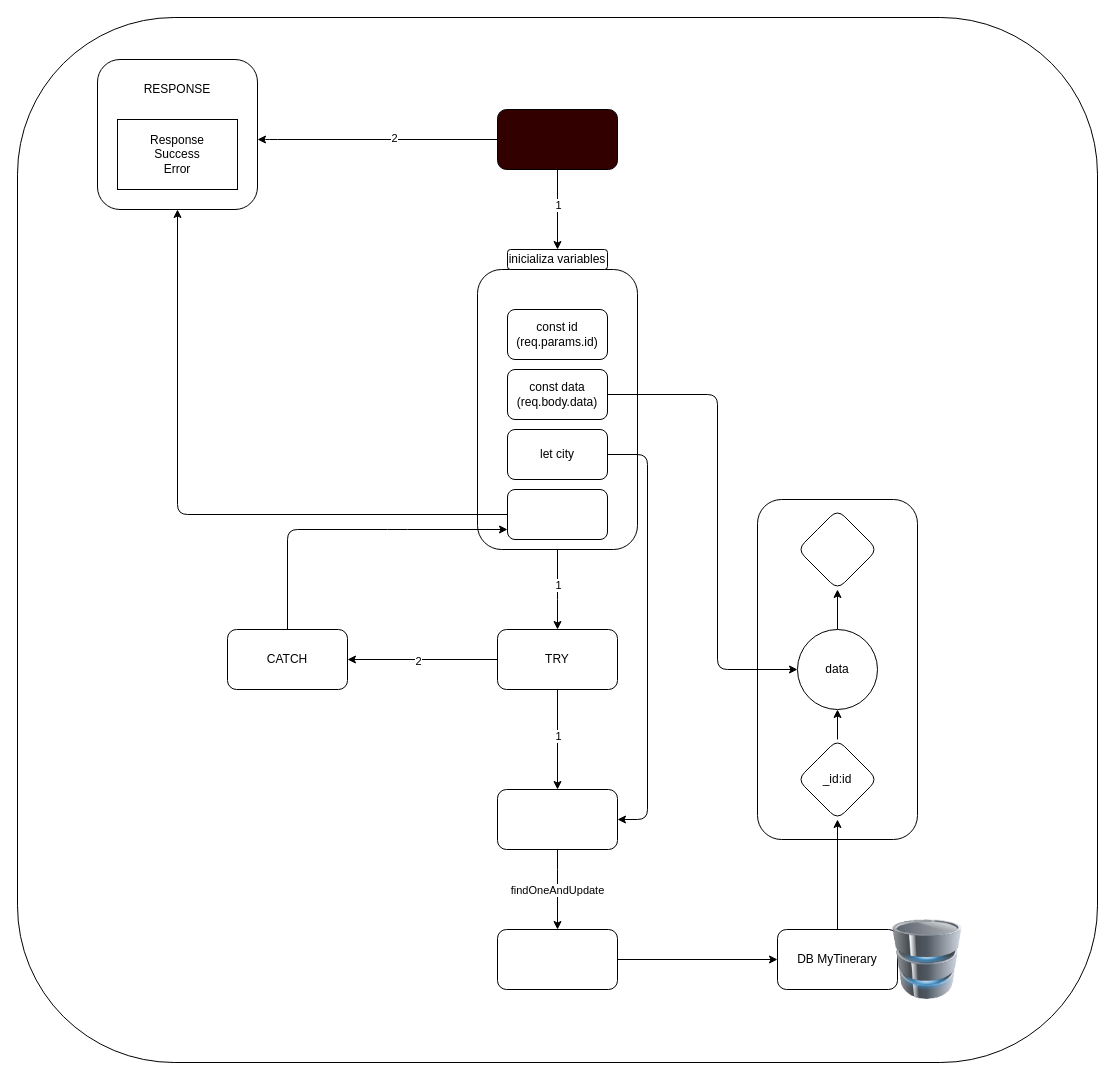
Image size: 1115x1080. Some labels were removed from this diagram. Here are the shapes that lost their labels. From the top down, the centre of each, then its label:
At (557,139): "LLAMADO AL CONTROLADOR ModifyCity".
At (557,514): "let error (null)".
At (837,549): "new : true".
At (557,819): "llama la variable city".
At (557,959): "Model Cities".
